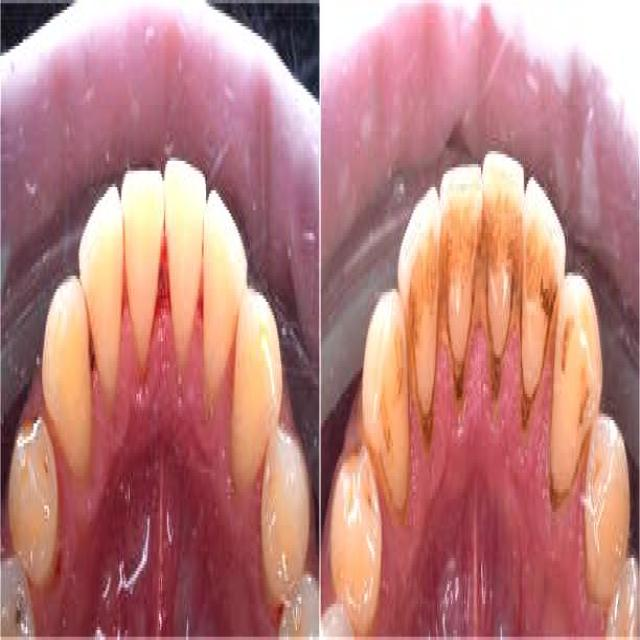caries: (10, 584, 28, 634)
